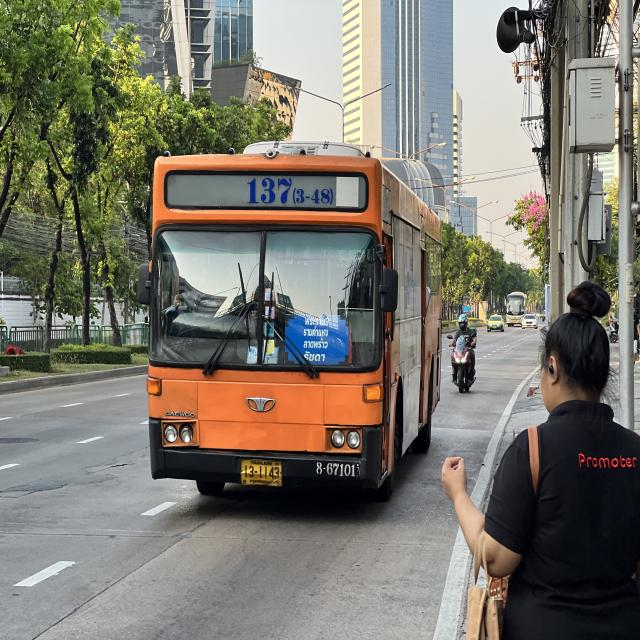BMTA-bus: (145, 146, 440, 499)
Bus-Line-Number: (240, 175, 336, 206)
Destination-Sign-Normal: (286, 311, 349, 368)
